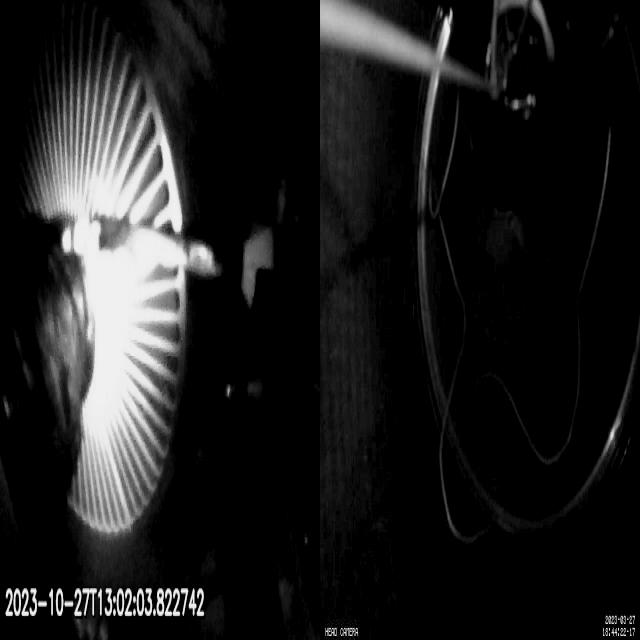head: (242, 229, 290, 304)
white-dots: (61, 214, 102, 262)
